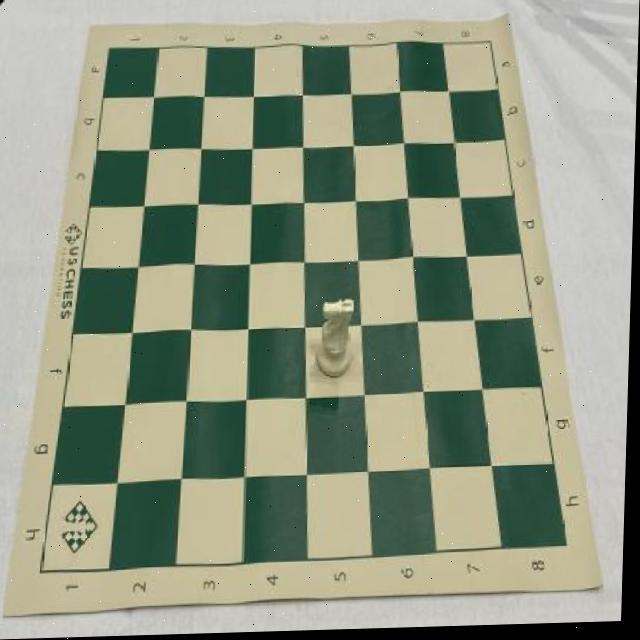white-king: (317, 301, 357, 381)
